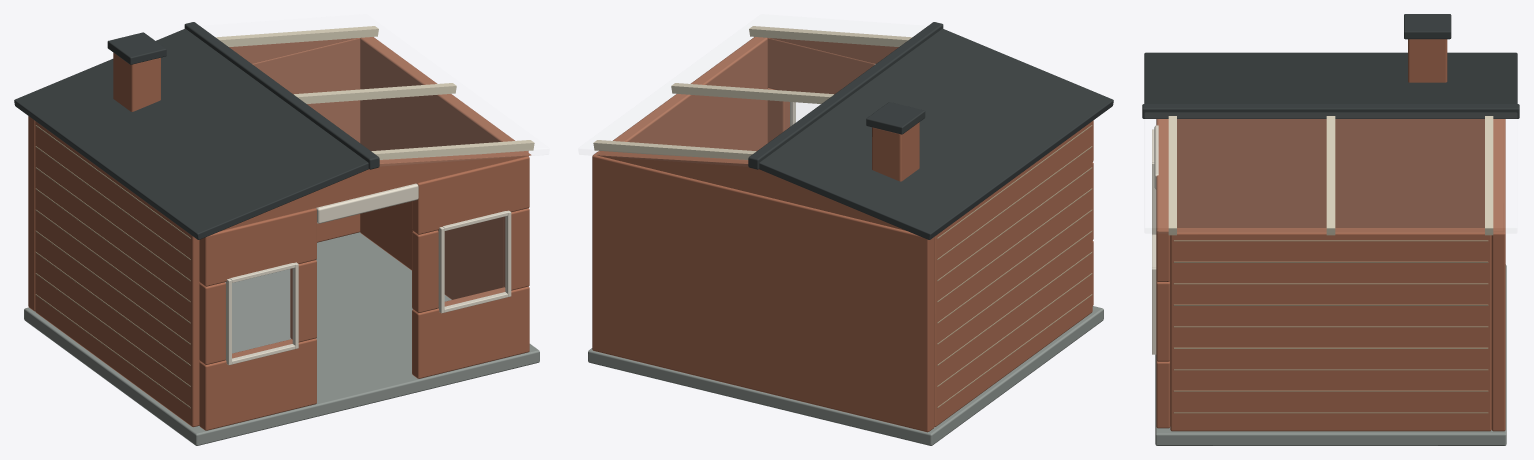
The model's file is house-cottage.glb.
3 views of the same model, side by side, from view 1: azimuth 30°, elevation 25°; view 2: azimuth 150°, elevation 25°; view 3: azimuth 270°, elevation 25° (orthographic).
Parts seen in each view (by area): view 1: canal-boats-and-lock-operations-roofed-lock-keepers-cottage_ (×6); view 2: canal-boats-and-lock-operations-roofed-lock-keepers-cottage_ (×5); view 3: canal-boats-and-lock-operations-roofed-lock-keepers-cottage_ (×6).
Part boxes in pixels (left/top/right/bottom): canal-boats-and-lock-operations-roofed-lock-keepers-cottage_ (×6): left=14, top=22, right=539, bottom=445; canal-boats-and-lock-operations-roofed-lock-keepers-cottage_ (×5): left=588, top=22, right=1113, bottom=445; canal-boats-and-lock-operations-roofed-lock-keepers-cottage_ (×6): left=1142, top=14, right=1519, bottom=445.
Size of the model in its own units: 4.71 by 3.65 by 4.3.
